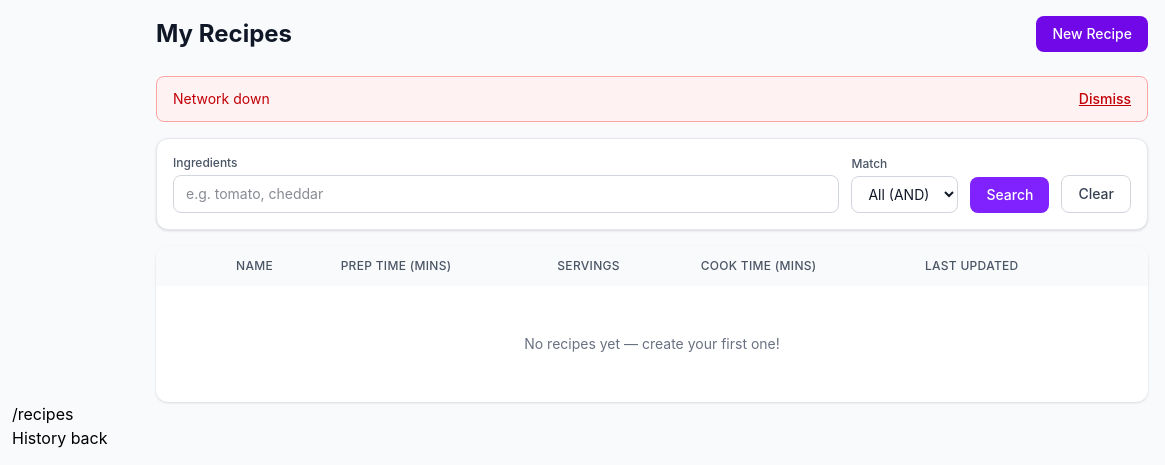
Test: RecipeList › shows dismissible error banner without hiding the table
Expected: the text "Network down" is shown, 173,89 -> 270,109
Expected: the heading "My Recipes" is shown, 156,18 -> 292,50
Step 1. Click the button "Dismiss" → x=1105, y=99, box 1079,89 -> 1131,109
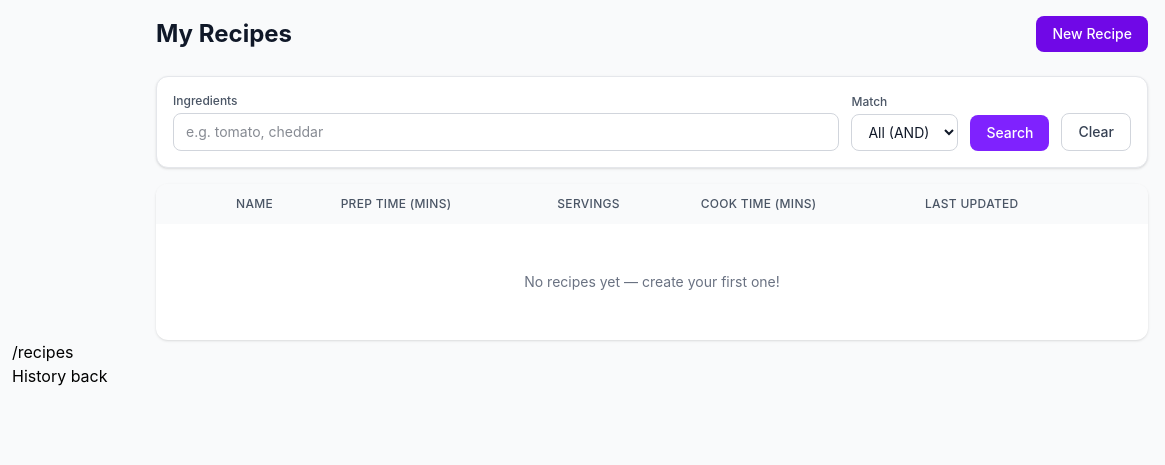
Expected: the text "Network down" is gone
